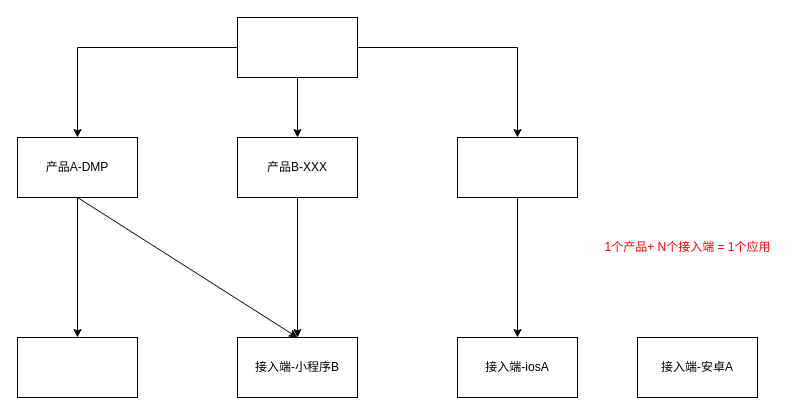
This 795x415 diagram has some shape labels left out. The centre of each missing label's shape, as x and y in pixels:
产品C-XXX: point (517, 167)
接入端-小程序A: point (77, 367)
租户ID: point (297, 47)
